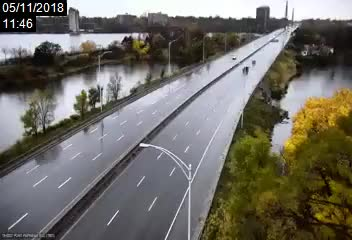personal_car: (241, 66, 250, 73), (251, 58, 257, 65), (231, 54, 237, 61)
